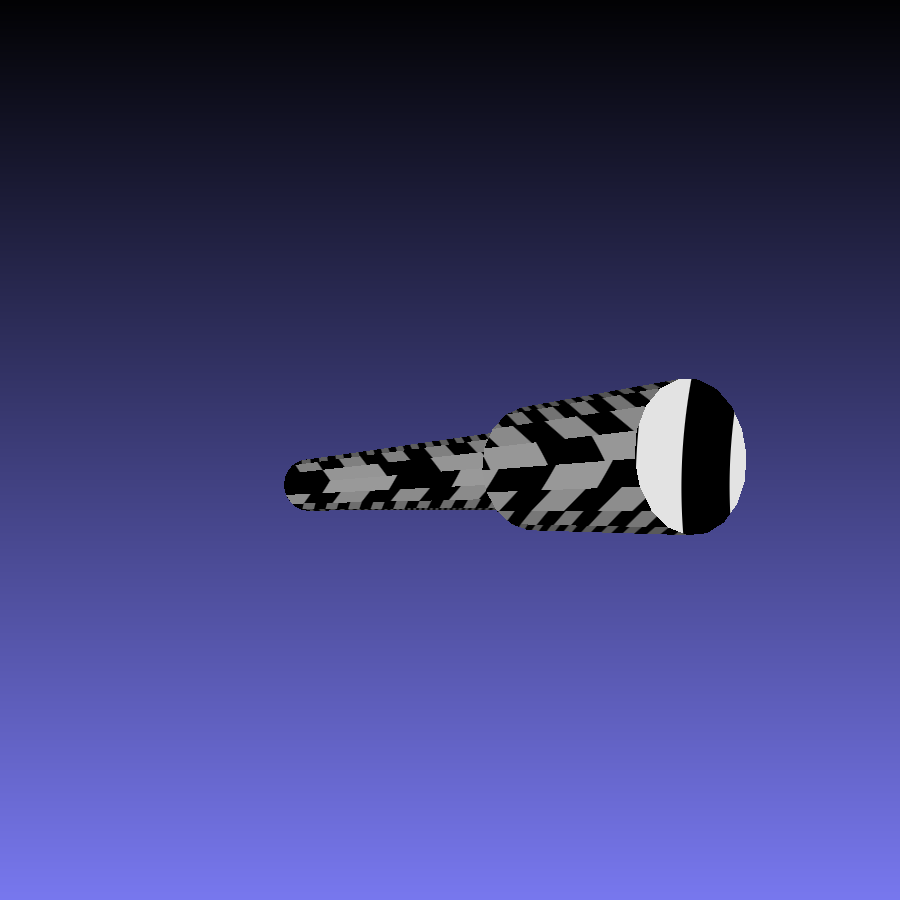cargo_g: (283, 375, 747, 539)
